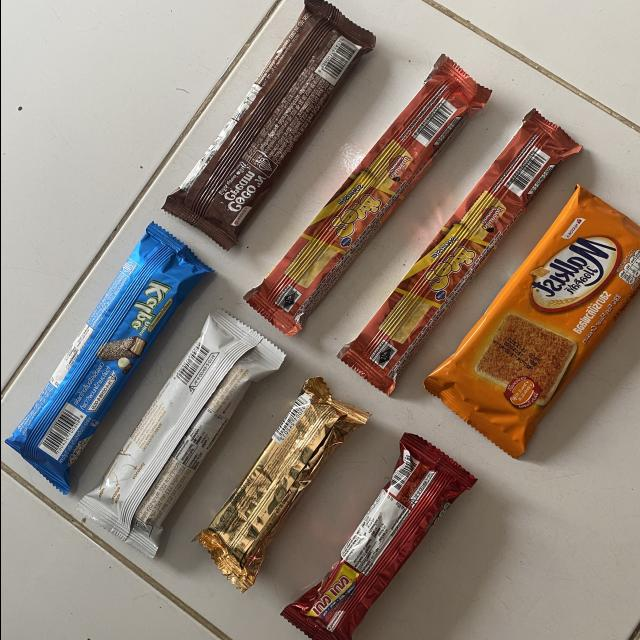plastik: (245, 56, 489, 335), (338, 111, 578, 393), (424, 186, 640, 457), (4, 222, 210, 493), (161, 0, 374, 249), (77, 310, 282, 557), (281, 434, 475, 640), (193, 377, 368, 592)
